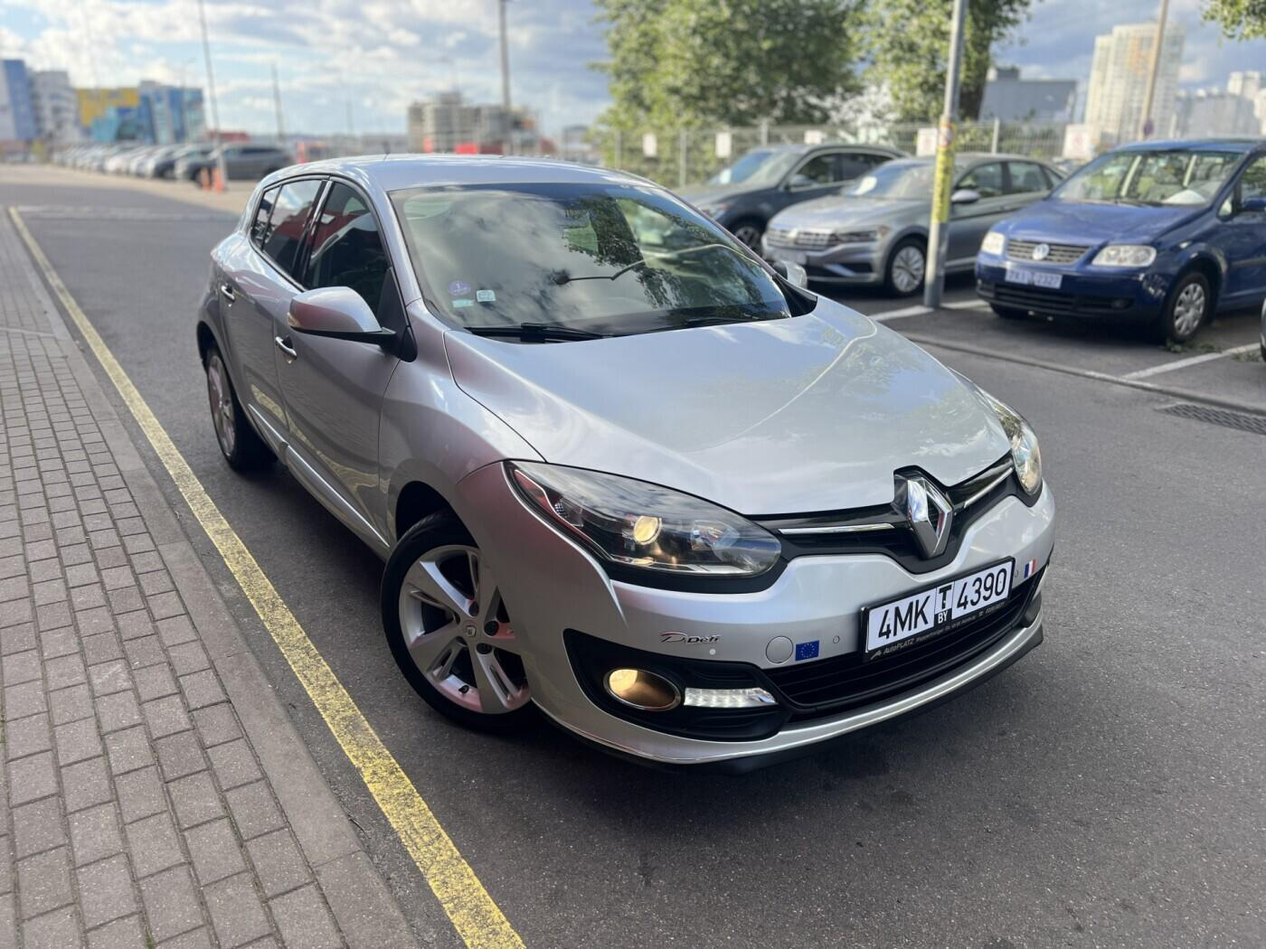Megane_2014-2016: (186, 147, 1066, 775)
